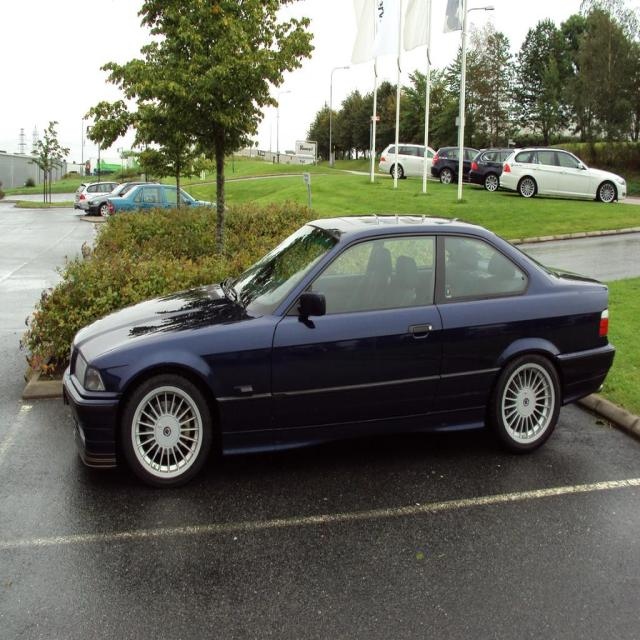car: (53, 212, 621, 488), (498, 145, 628, 204)
